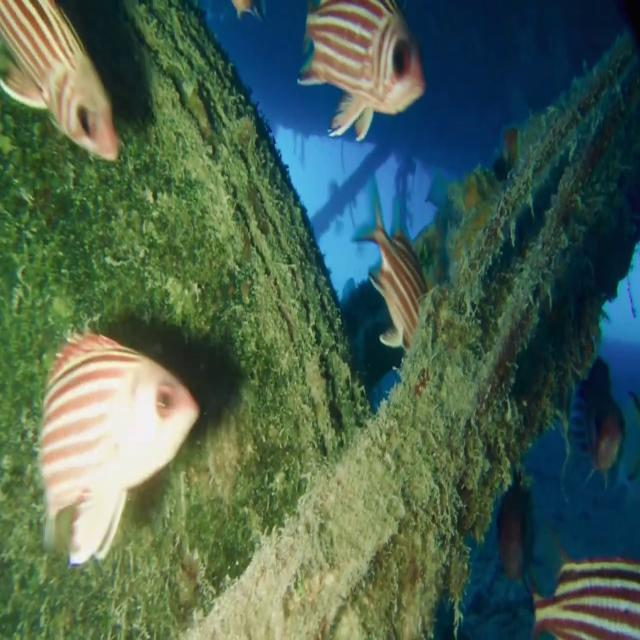Asker Baligi: (36, 328, 200, 569), (296, 0, 426, 143)
